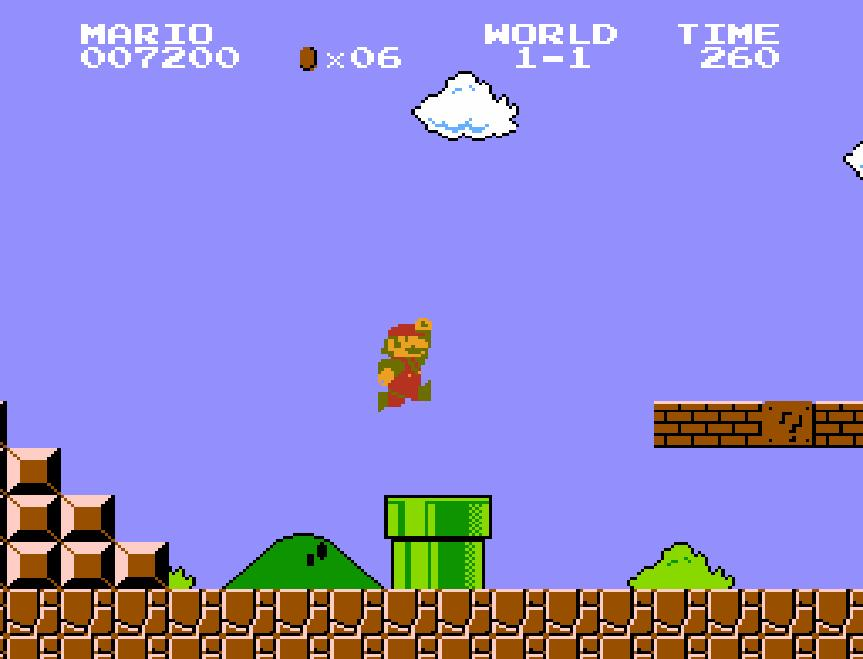big_mario: (376, 316, 434, 414)
